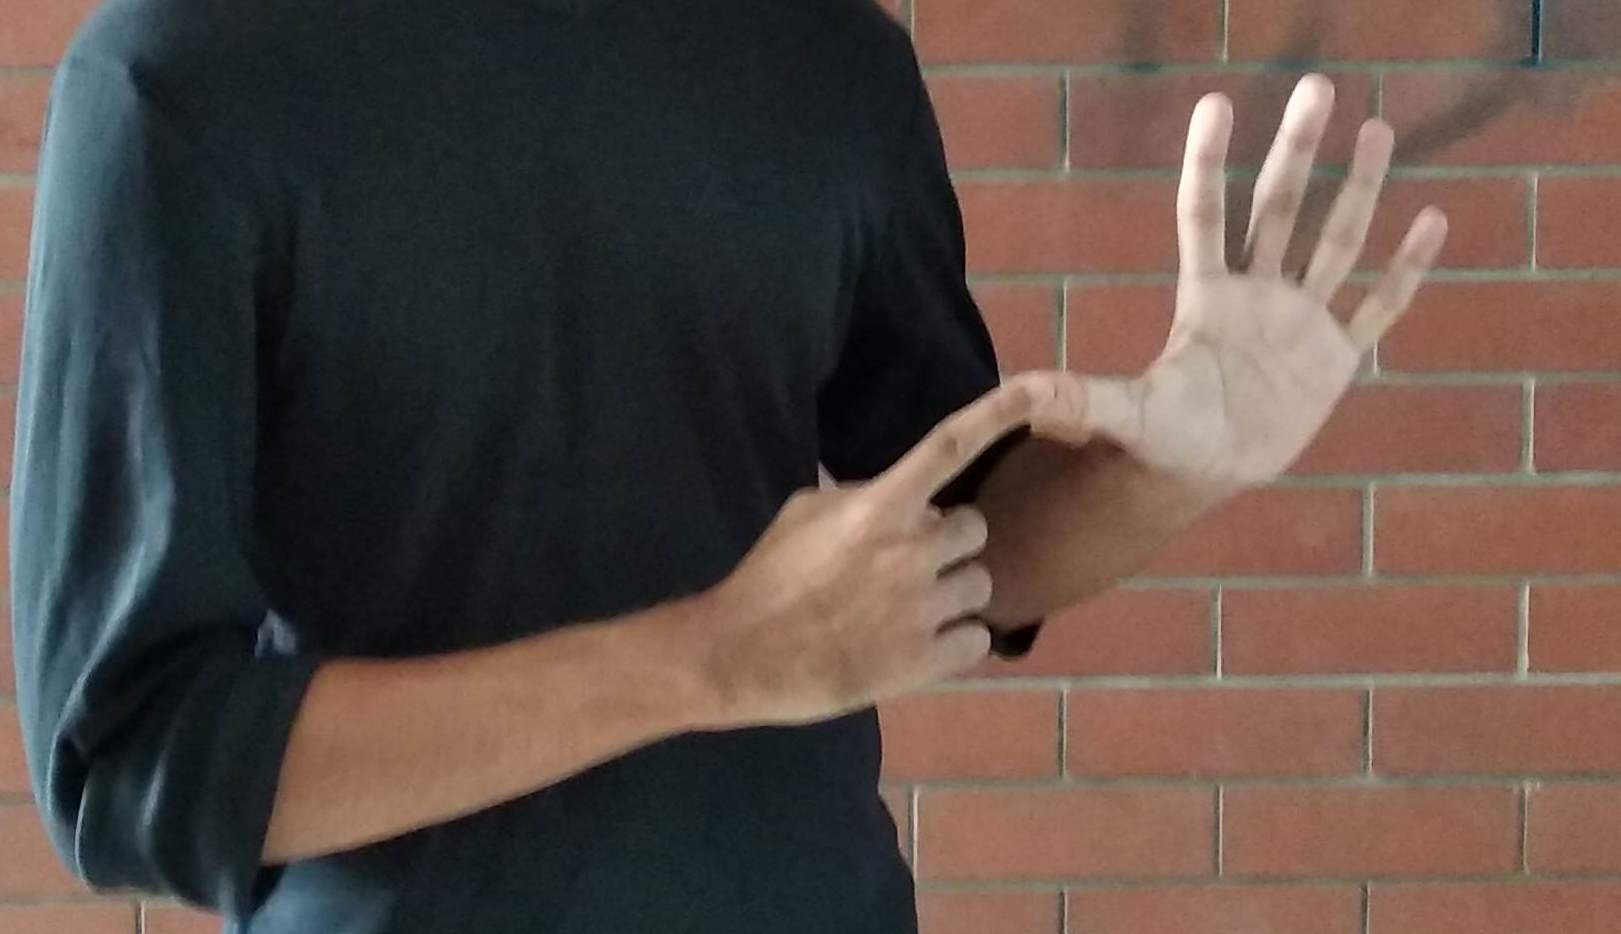a: (832, 118, 1424, 709)
